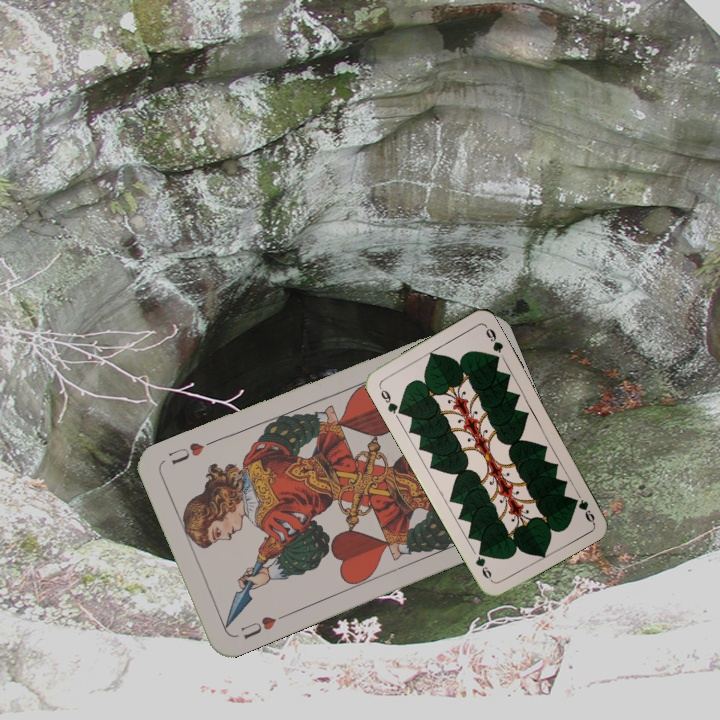G9: (375, 383, 405, 417), (572, 487, 597, 525)
HU: (236, 612, 279, 642)
